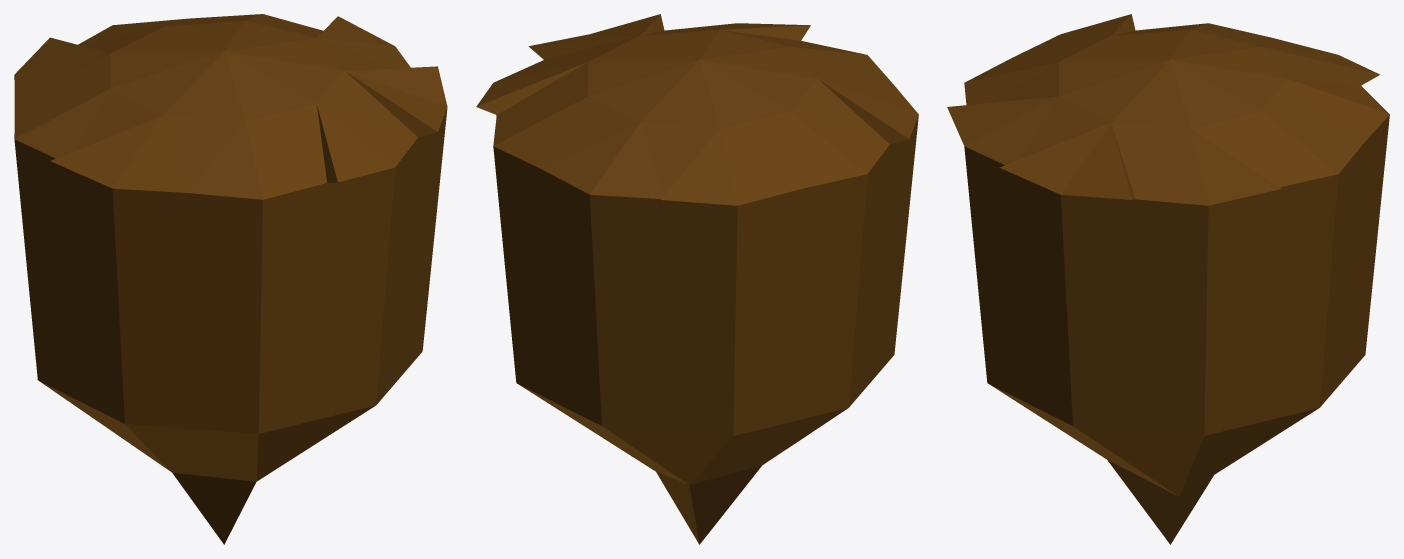
The model's file is brownSeed.fbx.
3 views of the same model, side by side, from view 1: azimuth 30°, elevation 25°; view 2: azimuth 150°, elevation 25°; view 3: azimuth 270°, elevation 25° (orthographic).
Parts seen in each view (by area): view 1: Sphere; view 2: Sphere; view 3: Sphere.
Part boxes in pixels (x1,y1,x2,y2): Sphere: [14, 14, 447, 544]; Sphere: [476, 14, 918, 544]; Sphere: [947, 14, 1389, 544].
Size of the model in its own units: 160 by 195 by 161.
